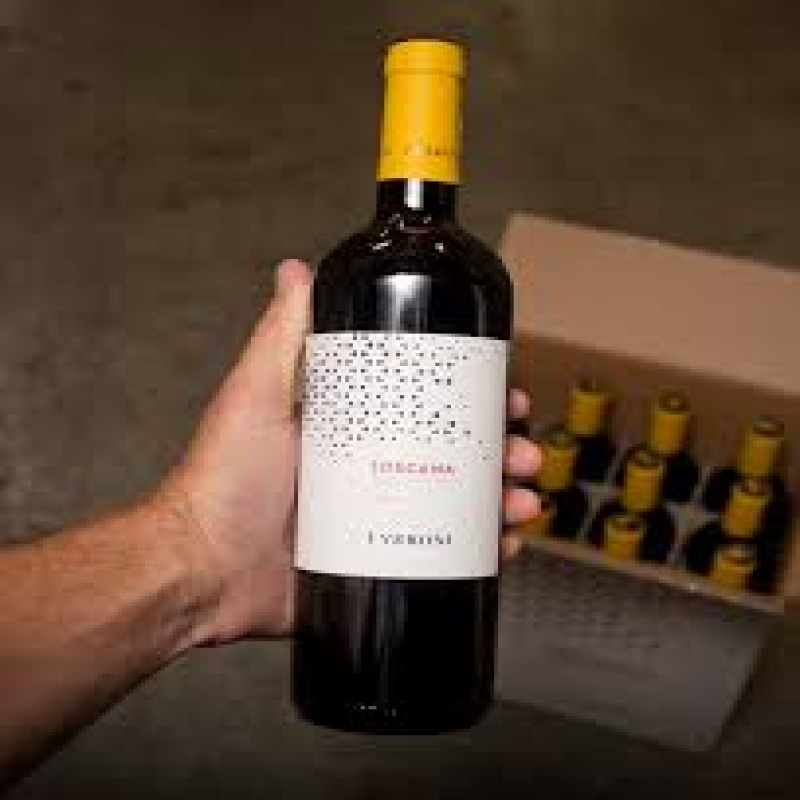wine: (297, 38, 494, 713)
